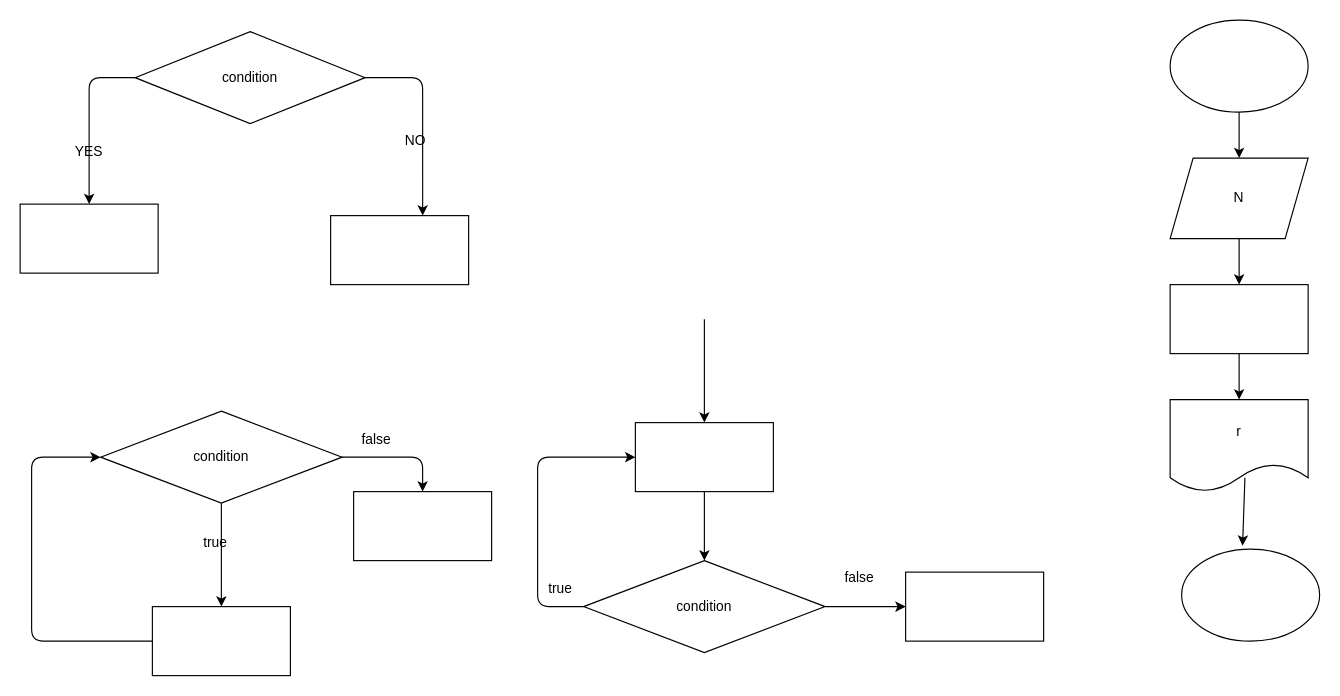
Some shapes in this 1340 by 696 pixel diagram are drawn without their labels. The centre of each missing label's shape, as x and y in pixels:
"END" goes at [1250,594].
"r = random(1,N)" goes at [1238,318].
"START" goes at [1238,65].
